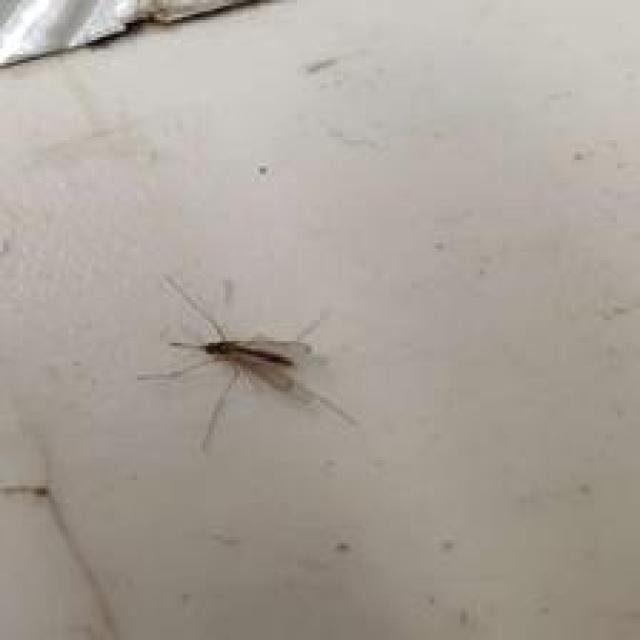Culex: (137, 273, 360, 453)
